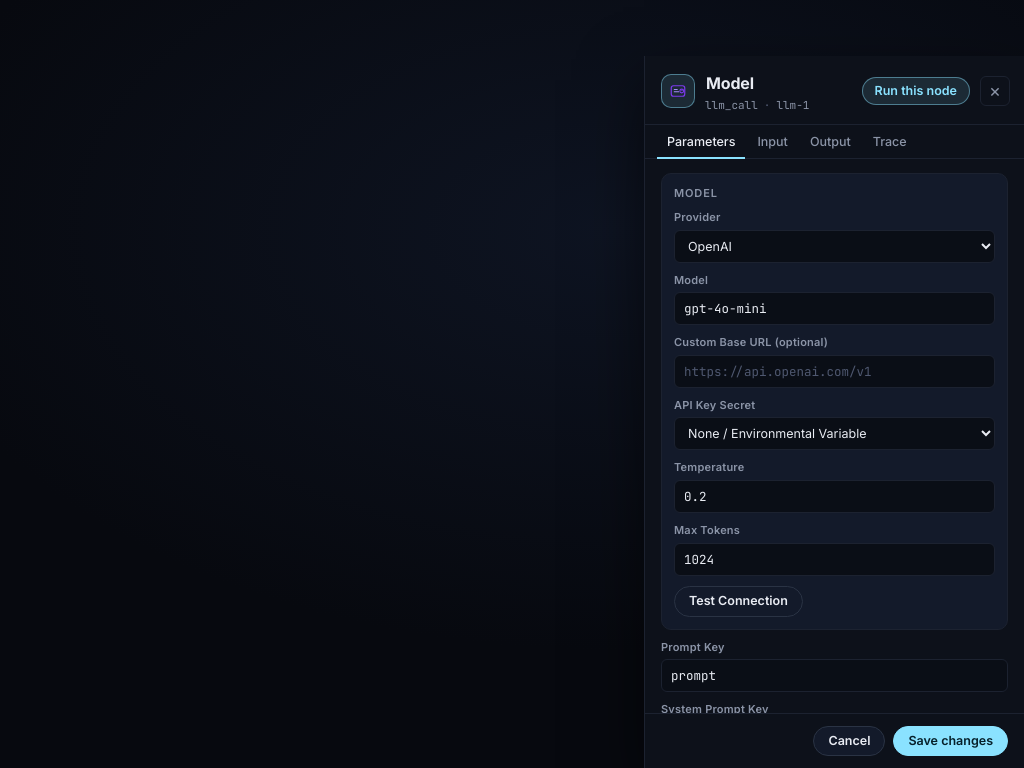
it: inline credential creation › shows the save warning next to the credential field
Select "+ Add New Credential..." in the dropdown labelled "API Key Secret" at (834, 434), box 674,418 -> 995,450
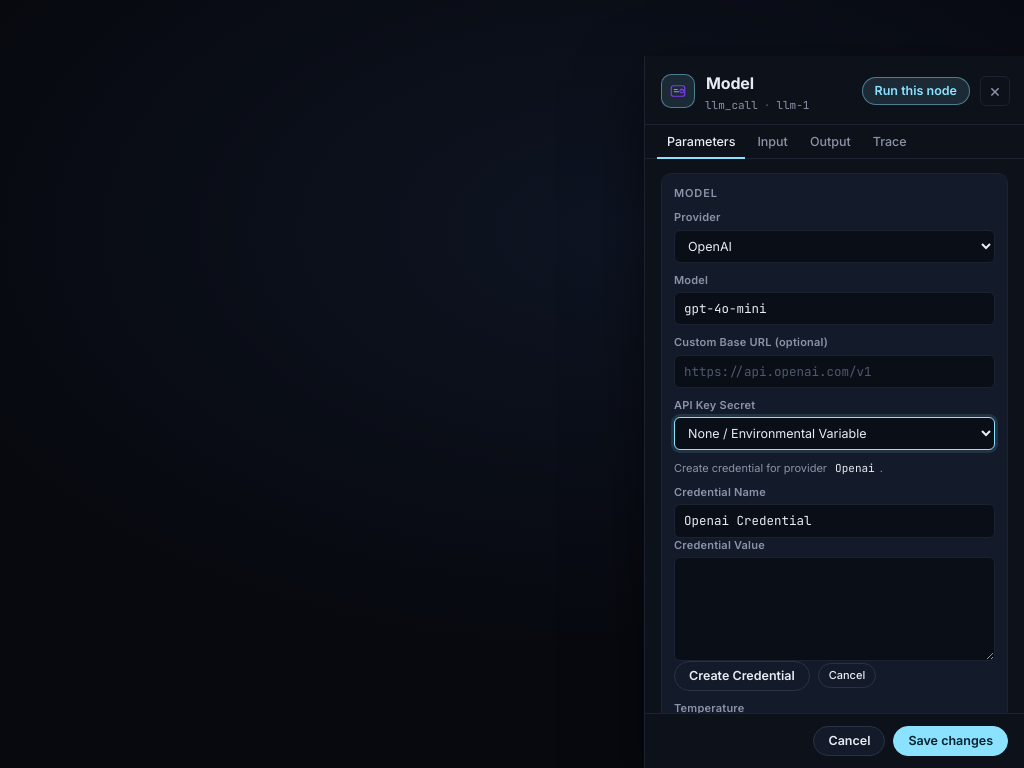
Type "success" into the text box labelled "Credential Value" at (834, 609), box 674,557 -> 995,661
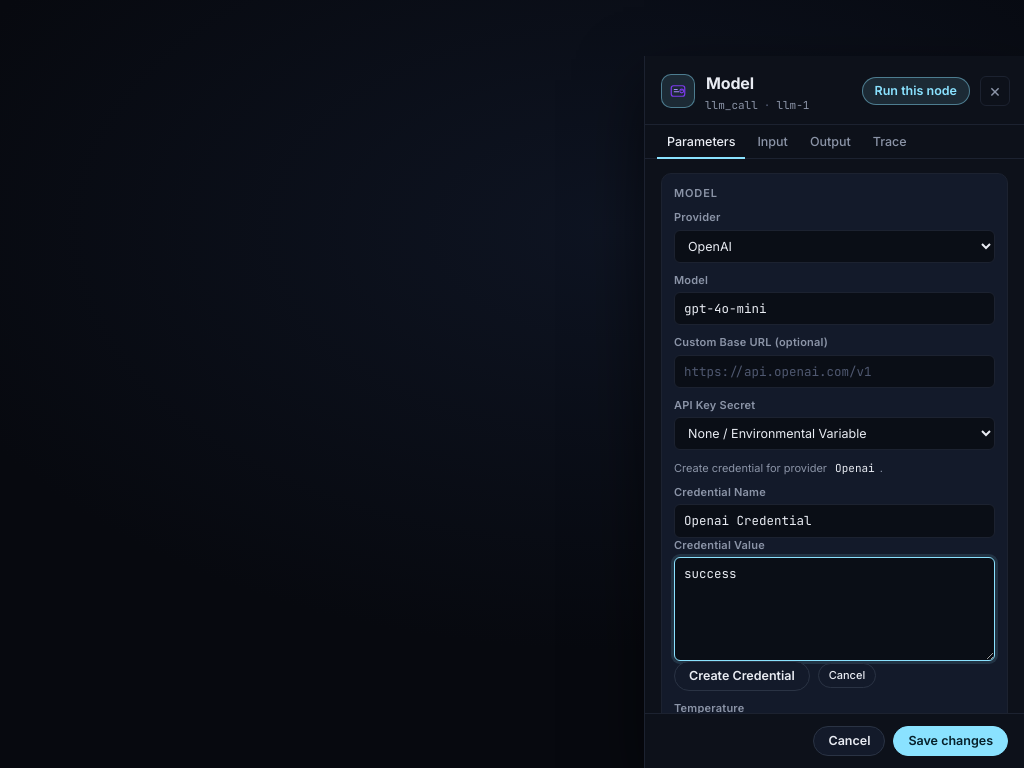
Click the button "Create Credential" at (742, 676), box 674,661 -> 810,691
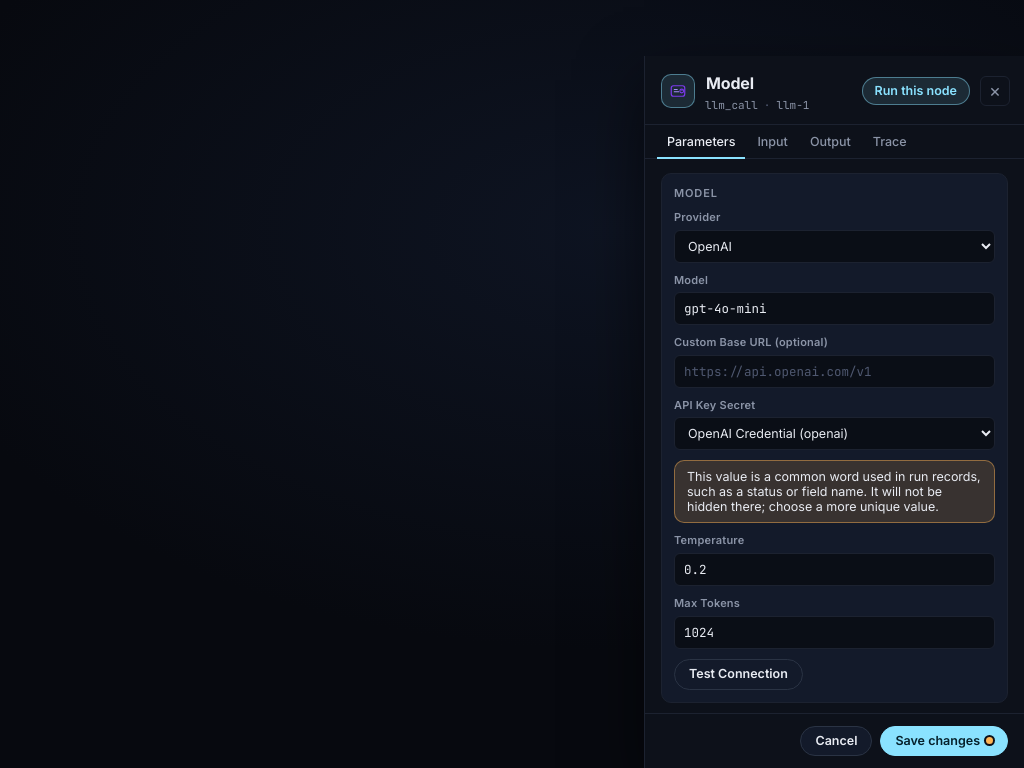
Check: the message does not show "success", box 674,460 -> 995,524
Check: the message shows "This value is a common word used in run records, such as a status or field name. It will not be hidden there; choose a more unique value.", box 687,470 -> 981,514
